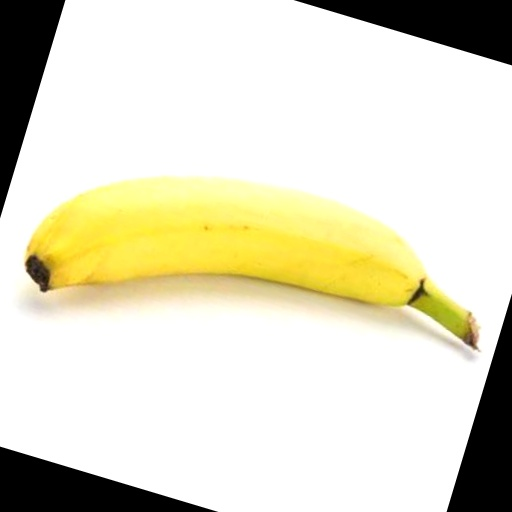fruit: (353, 179, 512, 452)
